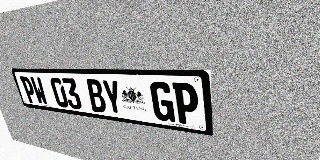0: (49, 77, 69, 108)
3: (61, 78, 83, 110)
B: (85, 79, 107, 113)
G: (149, 81, 175, 122)
P: (172, 82, 199, 126), (19, 76, 38, 104)
W: (29, 77, 49, 105)
Y: (101, 79, 124, 116)
